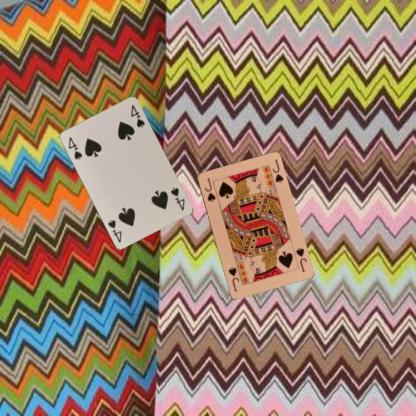4s: (168, 185, 186, 212), (66, 134, 84, 161)
Js: (202, 175, 217, 203), (293, 245, 308, 273)
